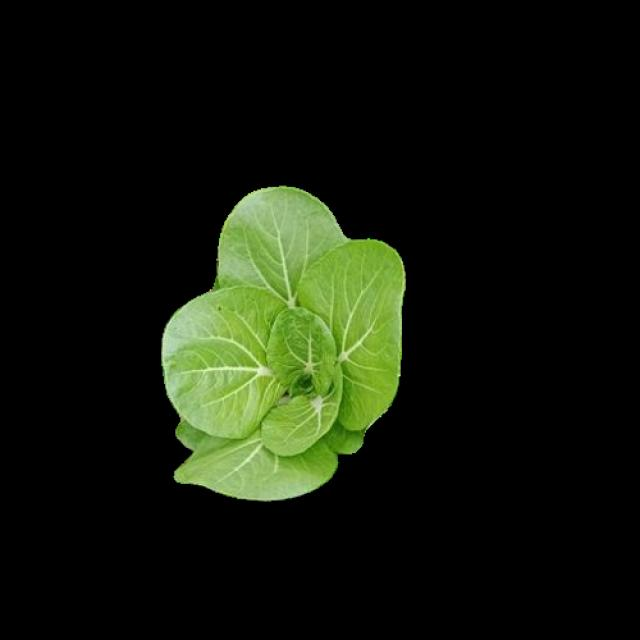healthy: (160, 182, 404, 499)
not-mature: (163, 184, 407, 502)
